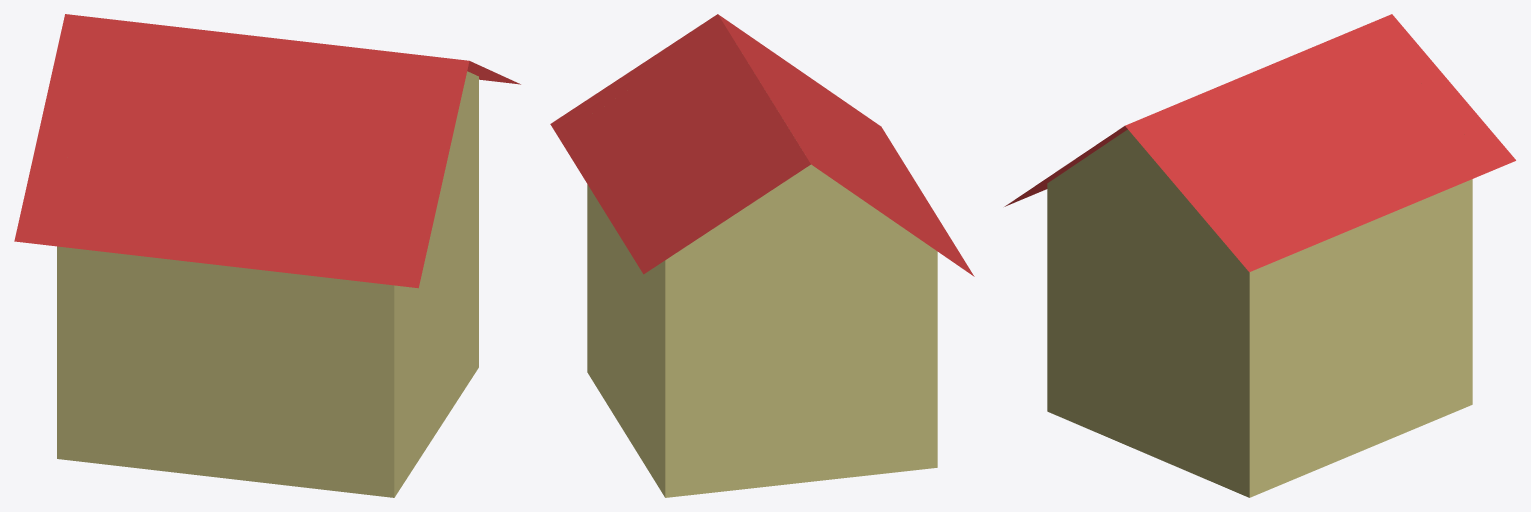
3 renders of one model, left to right at view 1: azimuth 30°, elevation 25°; view 2: azimuth 150°, elevation 25°; view 3: azimuth 270°, elevation 25°, orthographic. The views are drawn at different scales.
Size of the model in its own units: 16.5 by 16.51 by 11.99.
